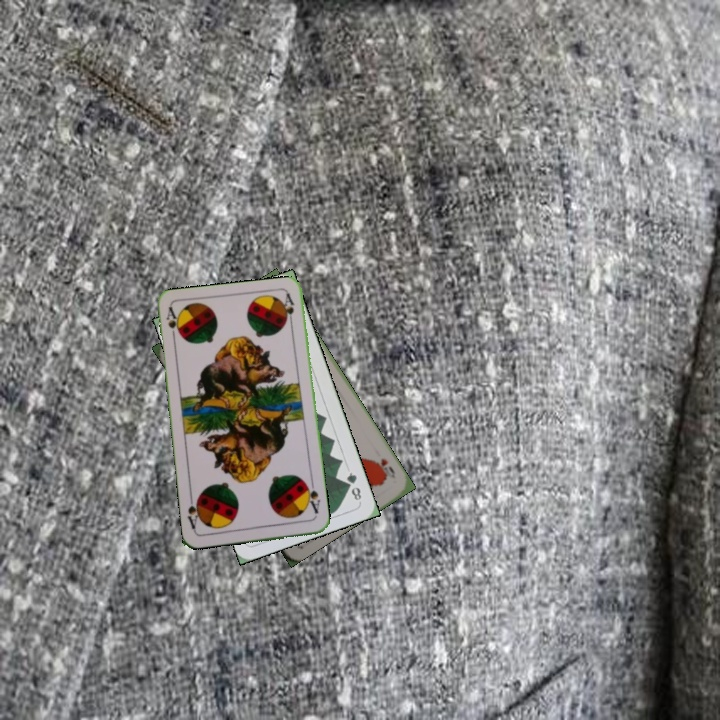G8: (342, 468, 364, 503)
HO: (370, 454, 398, 481)
SA: (301, 479, 323, 519), (162, 304, 183, 345)
